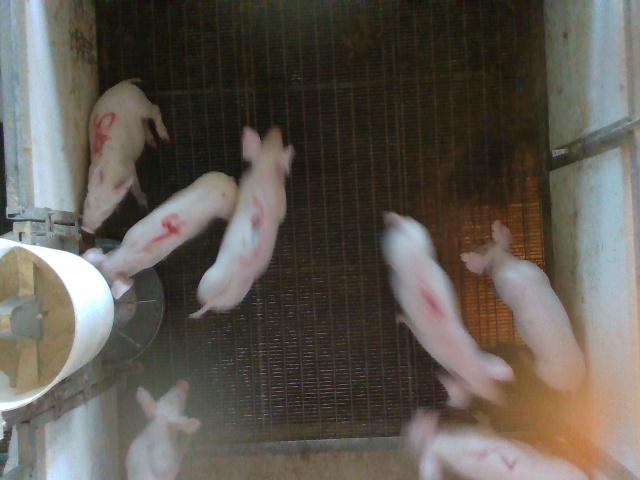pig-1: (382, 212, 512, 402)
pig-2: (406, 411, 586, 479)
pig-3: (190, 126, 294, 318)
pig-4: (82, 171, 238, 298)
pig-5: (81, 79, 169, 233)
